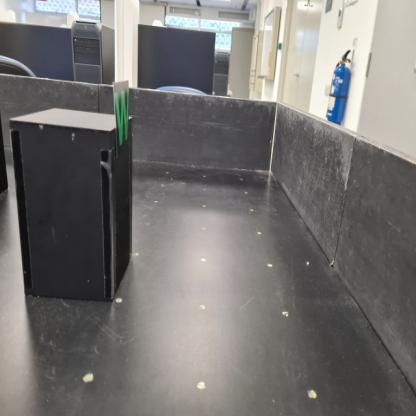w: (111, 79, 135, 159)
